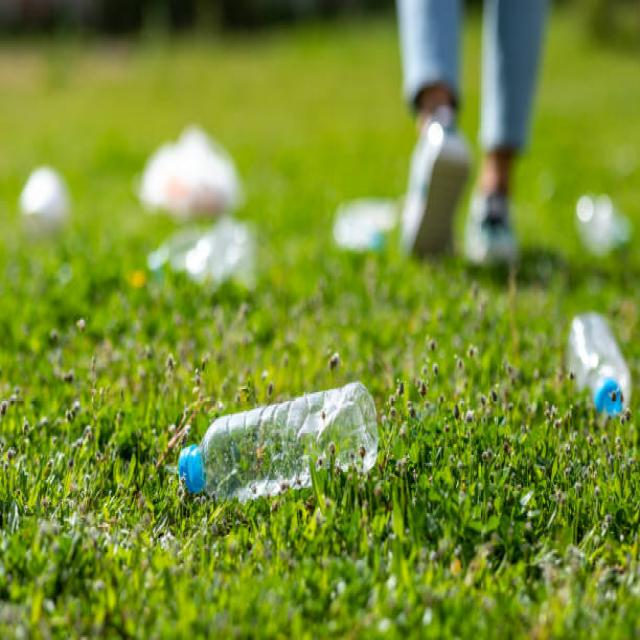plastic: (179, 382, 377, 506)
